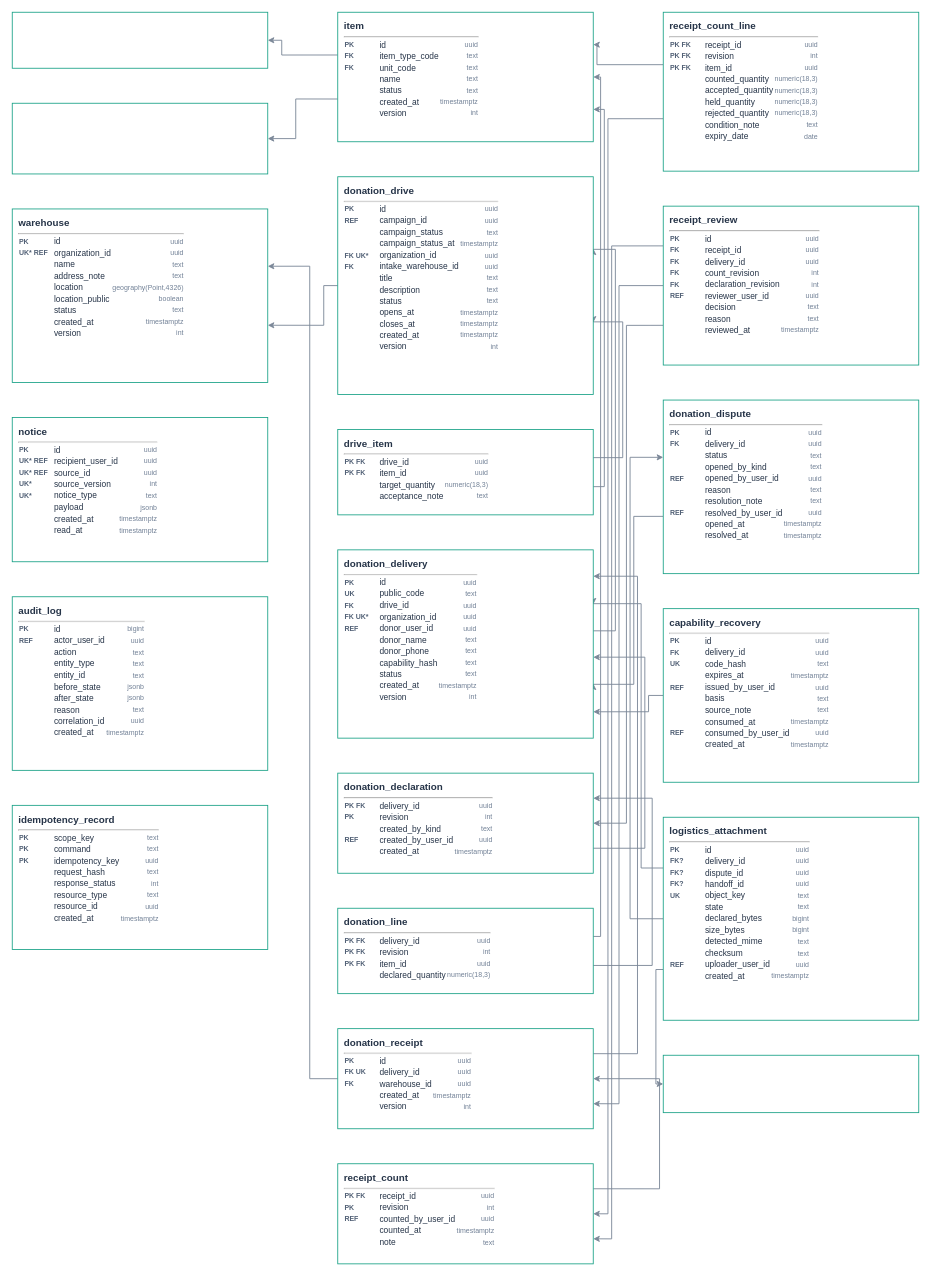
Some shapes in this 932 by 1278 pixel diagram are drawn without their labels. Here are the shapes that lost their labels. From the top down, the centre of each, then its label:
point (139, 39): item_type PK code text display_name text
point (139, 138): unit PK code text display_name text scale smallint
point (790, 1083): handoff_record PK id uuid UK* distribution_id uuid
